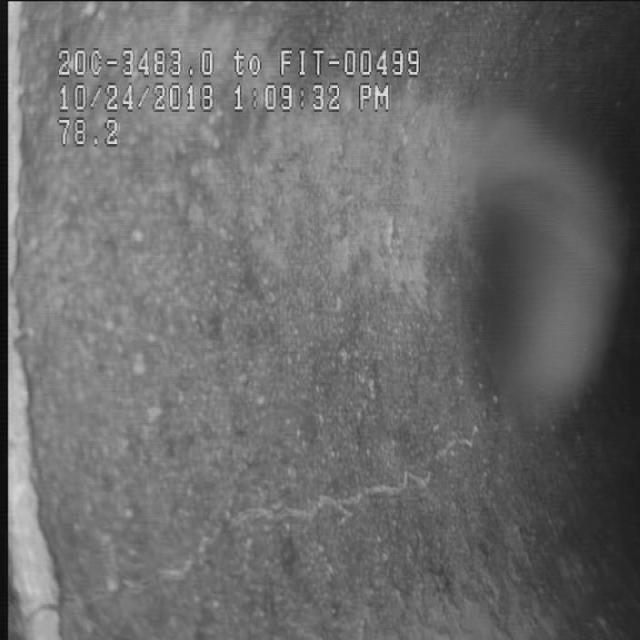Crack: (210, 434, 480, 540)
